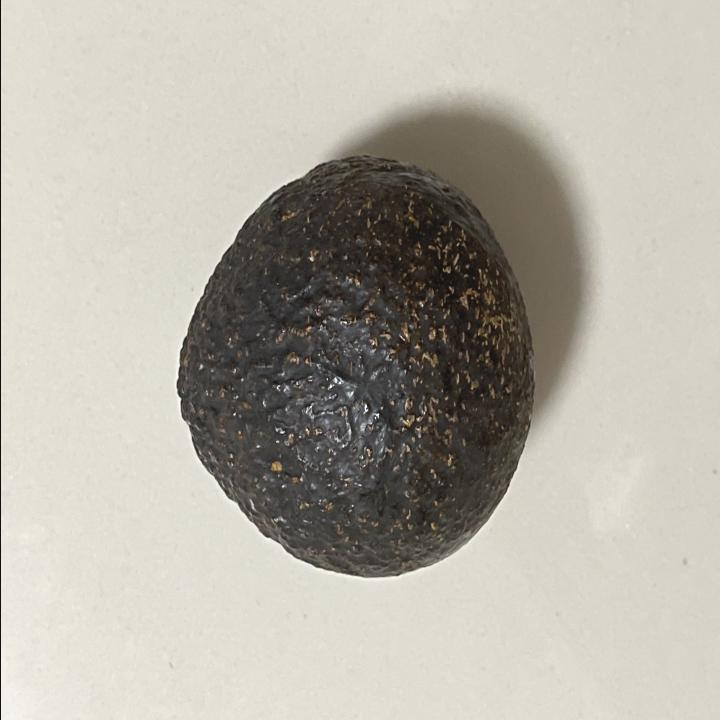Level3: (164, 144, 540, 590)
